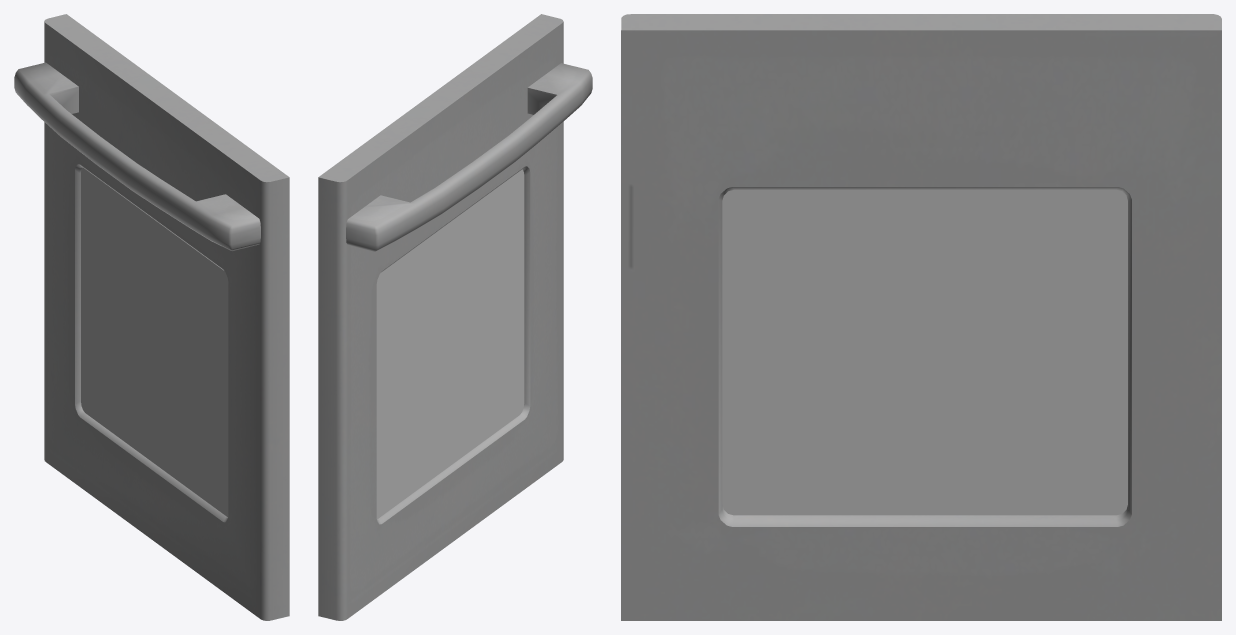
File: SM_Oven_A1_Door1.fbx
3 views of the same model, side by side, from view 1: azimuth 30°, elevation 25°; view 2: azimuth 150°, elevation 25°; view 3: azimuth 270°, elevation 25° (orthographic). The views are drawn at different scales.
Visible parts, largest first — view 1: SM_Oven_A1_Door1; view 2: SM_Oven_A1_Door1; view 3: SM_Oven_A1_Door1.
Part boxes in pixels (x1,y1,x2,y2): SM_Oven_A1_Door1: (14, 14, 289, 620); SM_Oven_A1_Door1: (318, 14, 592, 620); SM_Oven_A1_Door1: (621, 14, 1221, 620).
Bounding box in the file's own units: 10.71 × 59.61 × 64.67.
2 materials, 1 textured.
